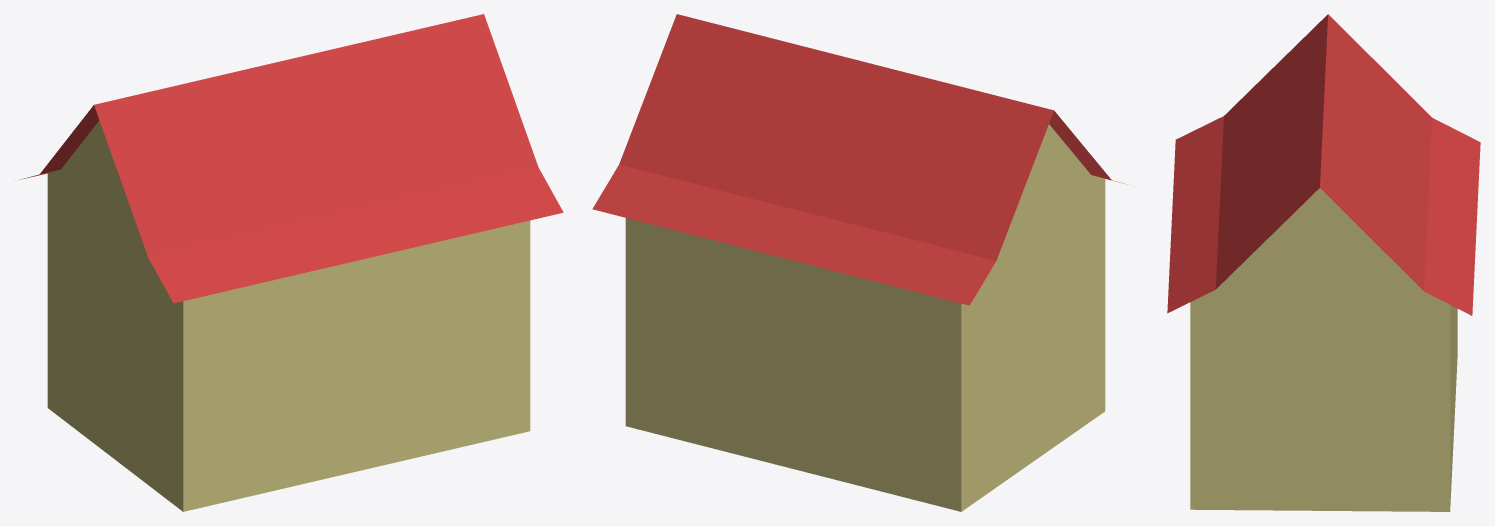
3 views of the same model, side by side, from view 1: azimuth 30°, elevation 25°; view 2: azimuth 150°, elevation 25°; view 3: azimuth 270°, elevation 25° (orthographic). The views are drawn at different scales.
Size of the model in its own units: 13.83 by 10.38 by 12.16.
